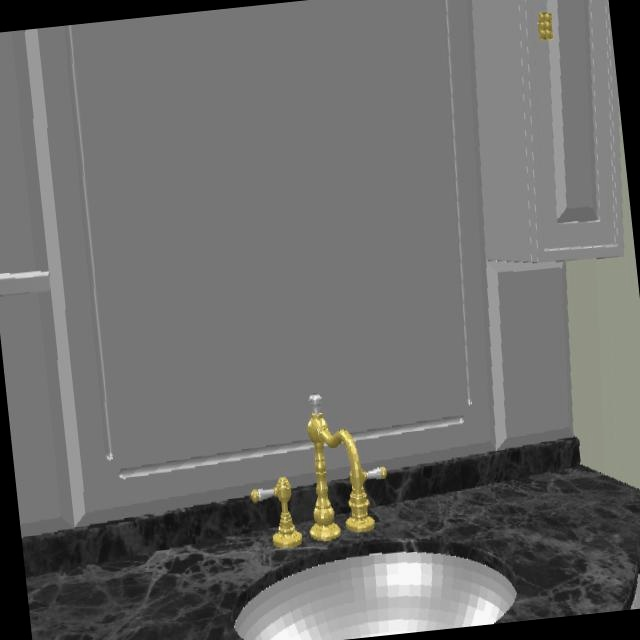washbasin: (233, 552, 517, 640)
